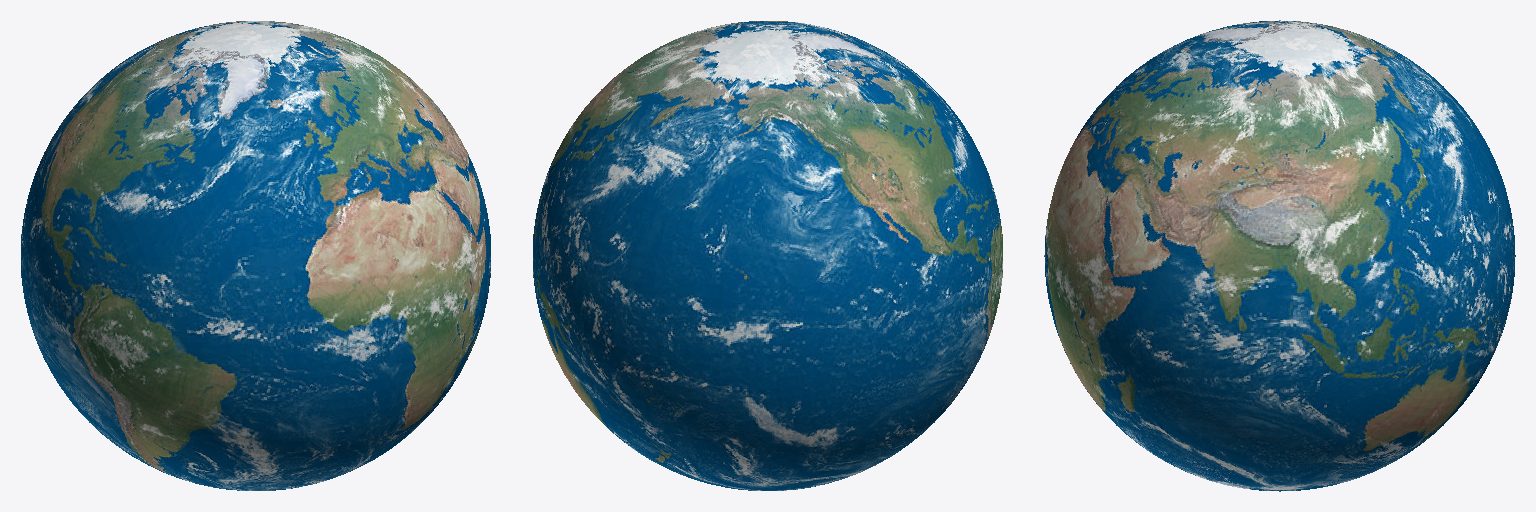
3 renders of one model, left to right at view 1: azimuth 30°, elevation 25°; view 2: azimuth 150°, elevation 25°; view 3: azimuth 270°, elevation 25°, orthographic.
Visible parts, largest first — view 1: Sphere003, Sphere001; view 2: Sphere003, Sphere001; view 3: Sphere001, Sphere003.
Part boxes in pixels (bbox=[...]): Sphere003: bbox=[21, 26, 373, 490]; Sphere001: bbox=[209, 21, 490, 483]; Sphere003: bbox=[650, 26, 1002, 490]; Sphere001: bbox=[533, 21, 814, 483]; Sphere001: bbox=[1044, 43, 1515, 491]; Sphere003: bbox=[1045, 20, 1514, 236].
Size of the model in its own units: 8.5 by 8.5 by 8.5.
2 materials, 2 textured.